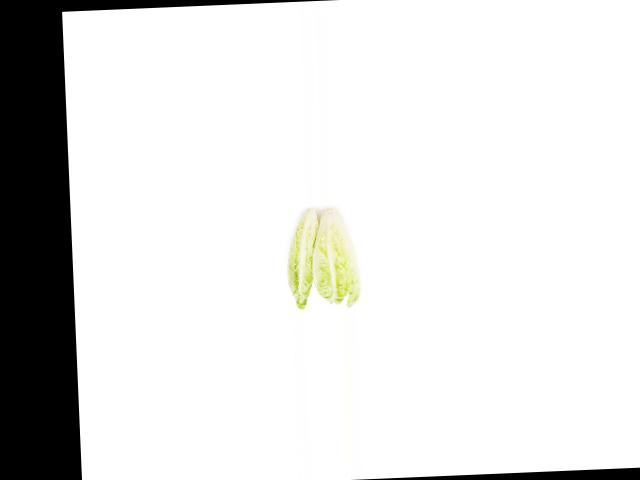lettuce: (274, 201, 324, 311)
